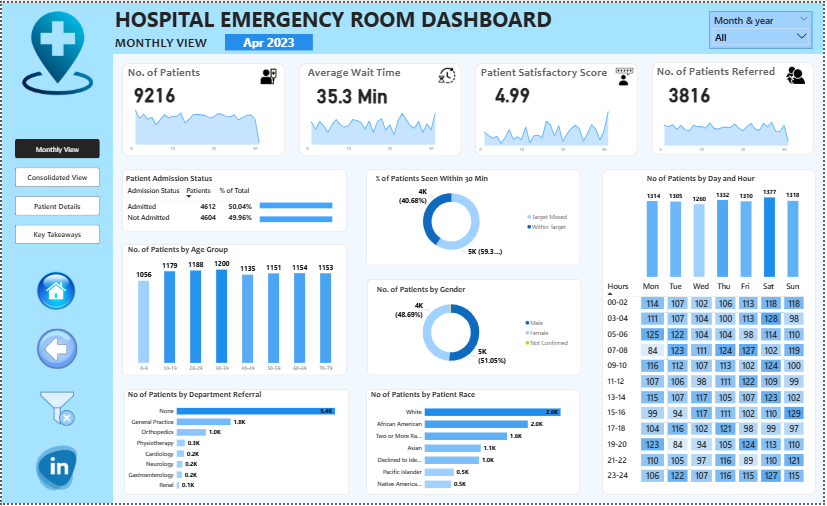

Layout of this report page (visuals, bound fields, positions):
{"tool":"powerbi","page":{"name":"Monthly View","canvas":[2300,1400],"ordinal":0},"visuals":[{"type":"shape","box":[0,0,310.8,1400],"z":0},{"type":"shape","box":[310.8,0,1988,142.8],"z":1000},{"type":"textbox","box":[310.8,0,1246,106.4],"z":2000},{"type":"textbox","box":[310.8,81.2,277.2,61.6],"z":3000},{"type":"shape","box":[336,168,456.4,260.4],"z":4000},{"type":"card","fields":{"Values":["Hospital ER_Data.No of Patients"]},"box":[336,198.8,182,106.4],"z":5000},{"type":"slicer","fields":{"Values":["Date Table.Month & year"]},"box":[1978.4,21.6,289.2,105.4],"z":6000},{"type":"textbox","box":[347.2,168,277.2,61.6],"z":7000},{"type":"areaChart","fields":{"Category":["Date Table.Date.Variation.Date Hierarchy.Day"],"Y":["Hospital ER_Data.No of Patients"]},"box":[347.2,280,434,145.6],"z":8000},{"type":"card","fields":{"Values":["Min(Date Table.Month & year)"]},"box":[624.3,86.5,245.9,45.9],"z":9000},{"type":"shape","box":[830.7,166.8,455,261],"z":10000},{"type":"shape","box":[1325.3,166.8,455,261],"z":11000},{"type":"shape","box":[1820,165.2,453.6,260.4],"z":12000},{"type":"textbox","box":[851.4,167.6,300,62.2],"z":13000},{"type":"card","fields":{"Values":["Hospital ER_Data.Avg Wait Time"]},"box":[832.4,202.7,297.3,102.7],"z":14000},{"type":"areaChart","fields":{"Y":["Avg(Hospital ER_Data.Patient Waittime)"],"Category":["Date Table.Date.Variation.Date Hierarchy.Day"]},"box":[840,280,434,145.6],"z":15000},{"type":"areaChart","fields":{"Category":["Date Table.Date.Variation.Date Hierarchy.Day"],"Y":["Hospital ER_Data.Patient Satisfactory Score"]},"box":[1324.4,282.8,434,145.6],"z":16000},{"type":"textbox","box":[1335.6,168,436.8,61.6],"z":17000},{"type":"card","fields":{"Values":["Hospital ER_Data.Patient Satisfactory Score"]},"box":[1324.4,198.8,210,106.4],"z":18000},{"type":"textbox","box":[1828.4,165.2,436.8,61.6],"z":19000},{"type":"card","fields":{"Values":["Hospital ER_Data.No of Patients Referred"]},"box":[1820,198.8,210,106.4],"z":20000},{"type":"areaChart","fields":{"Category":["Date Table.Date.Variation.Date Hierarchy.Day"],"Y":["Hospital ER_Data.No of Patients Referred"]},"box":[1828.4,282.8,434,145.6],"z":21000},{"type":"shape","box":[336,464.8,630,176.4],"z":22000},{"type":"pivotTable","title":"Patient Admission Status","fields":{"Rows":["Hospital ER_Data.Admission Status"],"Values":["Hospital ER_Data.No of Patients1","Hospital ER_Data.No of Patients"]},"box":[341.6,476,616,156.8],"z":23000},{"type":"barChart","fields":{"Category":["Hospital ER_Data.Admission Status"],"Y":["Hospital ER_Data.No of Patients"]},"box":[716.8,526.4,274.4,114.8],"z":24000},{"type":"shape","box":[336,674.8,630,368],"z":25000},{"type":"clusteredColumnChart","title":"No. of Patients by Age Group","fields":{"Category":["Hospital ER_Data.Age Group"],"Y":["Hospital ER_Data.No of Patients"]},"box":[347.2,674.8,610.4,366.8],"z":26000},{"type":"shape","box":[341.6,1080.8,630,296.8],"z":27000},{"type":"clusteredBarChart","fields":{"Category":["Hospital ER_Data.Department Referral"],"Y":["Hospital ER_Data.No of Patients"]},"box":[347.2,1080.8,618.8,296.8],"z":28000},{"type":"shape","box":[1019.2,464.8,600,270],"z":29000},{"type":"donutChart","title":"% of Patients Seen Within 30 Min","fields":{"Category":["Hospital ER_Data.Waittime"],"Y":["Hospital ER_Data.No of Patients"]},"box":[1041.6,476,554.4,243.6],"z":30000},{"type":"shape","box":[1020.8,772.8,600,270],"z":31000},{"type":"donutChart","title":"No. of Patients by Gender","fields":{"Y":["Hospital ER_Data.No of Patients"],"Category":["Hospital ER_Data.Patient Gender"]},"box":[1043.2,785.6,554.4,243.6],"z":32000},{"type":"shape","box":[1019.2,1080.8,599.2,296.8],"z":33000},{"type":"clusteredBarChart","fields":{"Y":["Hospital ER_Data.No of Patients"],"Category":["Hospital ER_Data.Patient Race"]},"box":[1027.6,1080.8,571.2,296.8],"z":34000},{"type":"shape","box":[1680,464.8,599.2,912.8],"z":35000},{"type":"pivotTable","fields":{"Rows":["Hospital ER_Data.Waittime Interval"],"Columns":["Date Table.Day Name"],"Values":["Hospital ER_Data.No of Patients"]},"box":[1685.6,772.8,588,585.2],"z":36000},{"type":"columnChart","title":"No of Patients by Day and Hour","fields":{"Category":["Date Table.Day Name"],"Y":["Hospital ER_Data.No of Patients"]},"box":[1800.4,476,436.8,296.8],"z":37000},{"type":"image","box":[32.5,15,245,252.5],"z":38000},{"type":"image","box":[707.5,172.5,75,62.5],"z":39000},{"type":"image","box":[1215,177.5,60,52.5],"z":40000},{"type":"image","box":[1713.5,173,59.5,64.9],"z":41000},{"type":"image","box":[2182.5,172.5,82.5,57.5],"z":42000},{"type":"pageNavigator","box":[35.1,381.1,237.8,294.6],"z":43000},{"type":"image","box":[78.4,735.1,148.6,137.8],"z":44000},{"type":"image","box":[91.9,1081.1,124.3,108.1],"z":45000},{"type":"image","box":[91.9,908.1,124.3,121.6],"z":46000},{"type":"image","box":[67.6,1227,170.3,151.4],"z":47000}]}

Visuals, with their boxes in screenshot pixels (x1, y1, x2, y2), scaled from the page's 2300x1400 canvas onto the 827x506 screenshot:
shape: <region>0, 0, 112, 505</region>
shape: <region>112, 0, 826, 52</region>
textbox: <region>112, 0, 560, 38</region>
textbox: <region>112, 29, 211, 52</region>
shape: <region>121, 61, 285, 155</region>
card - Hospital ER_Data.No of Patients: <region>121, 72, 186, 110</region>
slicer - Date Table.Month & year: <region>711, 8, 815, 46</region>
textbox: <region>125, 61, 225, 83</region>
areaChart - Date Table.Date.Variation.Date Hierarchy.Day x Hospital ER_Data.No of Patients: <region>125, 101, 281, 154</region>
card - Min(Date Table.Month & year): <region>224, 31, 313, 48</region>
shape: <region>299, 60, 462, 155</region>
shape: <region>477, 60, 640, 155</region>
shape: <region>654, 60, 818, 154</region>
textbox: <region>306, 61, 414, 83</region>
card - Hospital ER_Data.Avg Wait Time: <region>299, 73, 406, 110</region>
areaChart - Avg(Hospital ER_Data.Patient Waittime) x Date Table.Date.Variation.Date Hierarchy.Day: <region>302, 101, 458, 154</region>
areaChart - Date Table.Date.Variation.Date Hierarchy.Day x Hospital ER_Data.Patient Satisfactory Score: <region>476, 102, 632, 155</region>
textbox: <region>480, 61, 637, 83</region>
card - Hospital ER_Data.Patient Satisfactory Score: <region>476, 72, 552, 110</region>
textbox: <region>657, 60, 814, 82</region>
card - Hospital ER_Data.No of Patients Referred: <region>654, 72, 730, 110</region>
areaChart - Date Table.Date.Variation.Date Hierarchy.Day x Hospital ER_Data.No of Patients Referred: <region>657, 102, 813, 155</region>
shape: <region>121, 168, 347, 232</region>
"Patient Admission Status" pivotTable: <region>123, 172, 344, 229</region>
barChart - Hospital ER_Data.Admission Status x Hospital ER_Data.No of Patients: <region>258, 190, 356, 232</region>
shape: <region>121, 244, 347, 377</region>
"No. of Patients by Age Group" clusteredColumnChart: <region>125, 244, 344, 376</region>
shape: <region>123, 391, 349, 498</region>
clusteredBarChart - Hospital ER_Data.Department Referral x Hospital ER_Data.No of Patients: <region>125, 391, 347, 498</region>
shape: <region>366, 168, 582, 266</region>
"% of Patients Seen Within 30 Min" donutChart: <region>375, 172, 574, 260</region>
shape: <region>367, 279, 583, 377</region>
"No. of Patients by Gender" donutChart: <region>375, 284, 574, 372</region>
shape: <region>366, 391, 582, 498</region>
clusteredBarChart - Hospital ER_Data.No of Patients x Hospital ER_Data.Patient Race: <region>369, 391, 575, 498</region>
shape: <region>604, 168, 820, 498</region>
pivotTable - Hospital ER_Data.Waittime Interval x Date Table.Day Name: <region>606, 279, 818, 491</region>
"No of Patients by Day and Hour" columnChart: <region>647, 172, 804, 279</region>
image: <region>12, 5, 100, 97</region>
image: <region>254, 62, 281, 85</region>
image: <region>437, 64, 458, 83</region>
image: <region>616, 63, 638, 86</region>
image: <region>785, 62, 814, 83</region>
pageNavigator: <region>13, 138, 98, 244</region>
image: <region>28, 266, 82, 315</region>
image: <region>33, 391, 78, 430</region>
image: <region>33, 328, 78, 372</region>
image: <region>24, 443, 86, 498</region>
